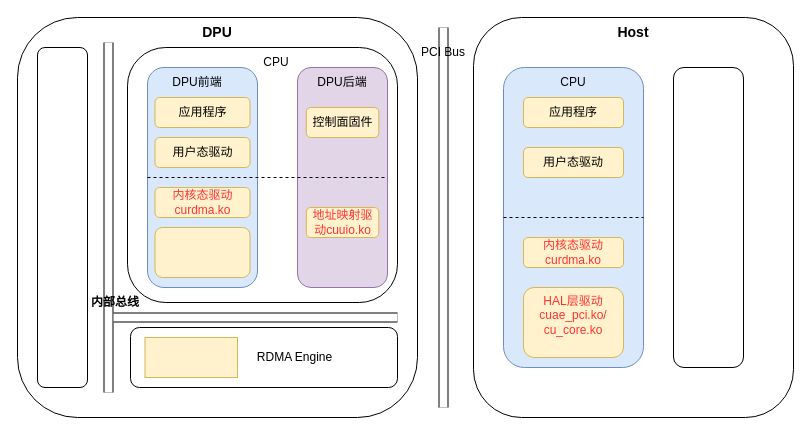
The diagram is 811 pixels wide and 435 high, and some of its shapes have lost their labels. The shapes that lost their labels are listed below. From the top down, each one's centre as x and y in pixels, then its label:
the point at 62,217: local DDR
the point at 708,217: host DDR
the point at 202,252: HAL层驱动cu_core.ko cuae_plat.ko
the point at 191,357: 拥塞控制算法
